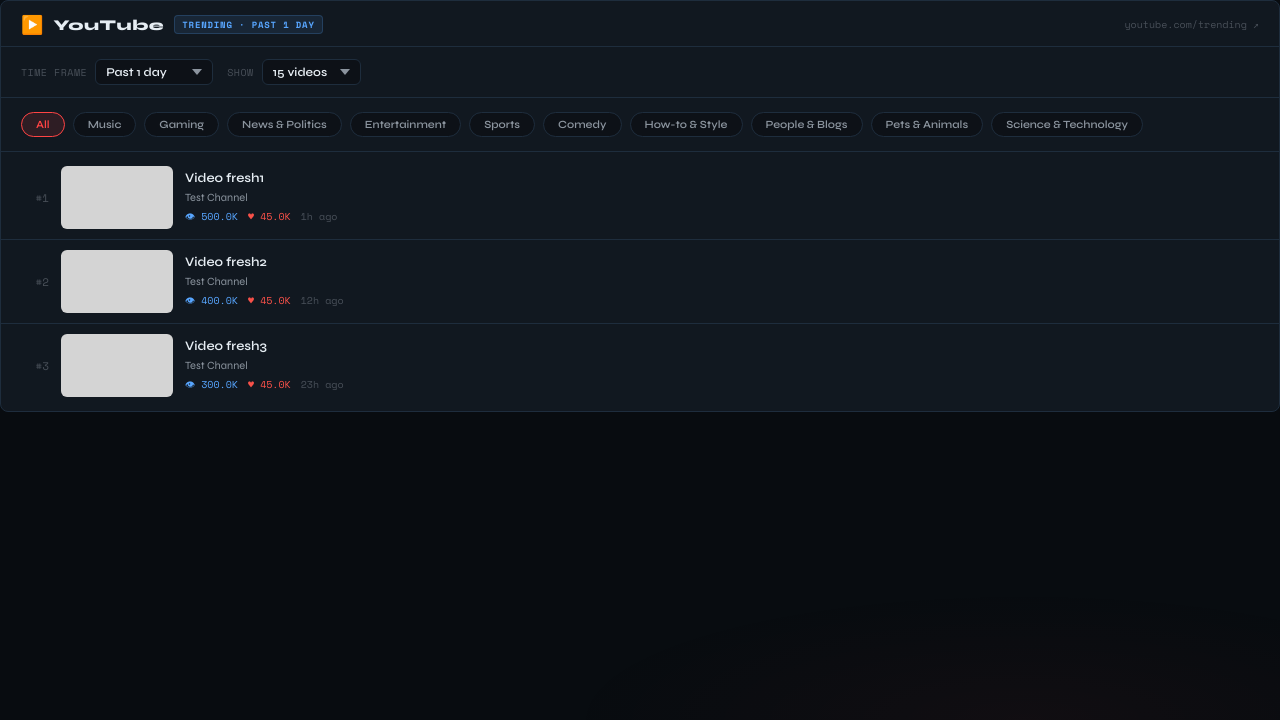
Scenario: YouTube — filter dropdowns › changing time frame to 3 days includes 30h and 50h videos
Select "Past 3 days" in the dropdown labelled "Time frame". click: (154, 72)
box: [95,59,213,85]
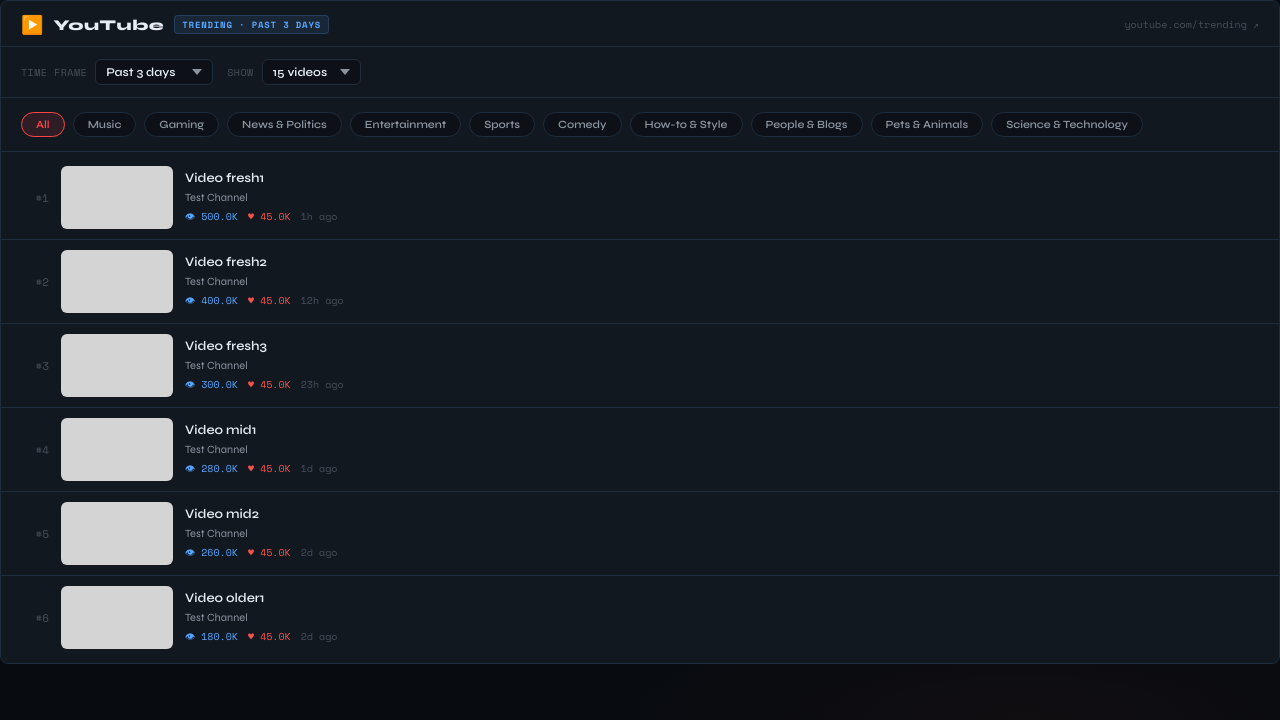
Now the text "Video mid1" is shown, box [185,422,256,438]
Now the text "Video mid2" is shown, box [185,506,259,522]
